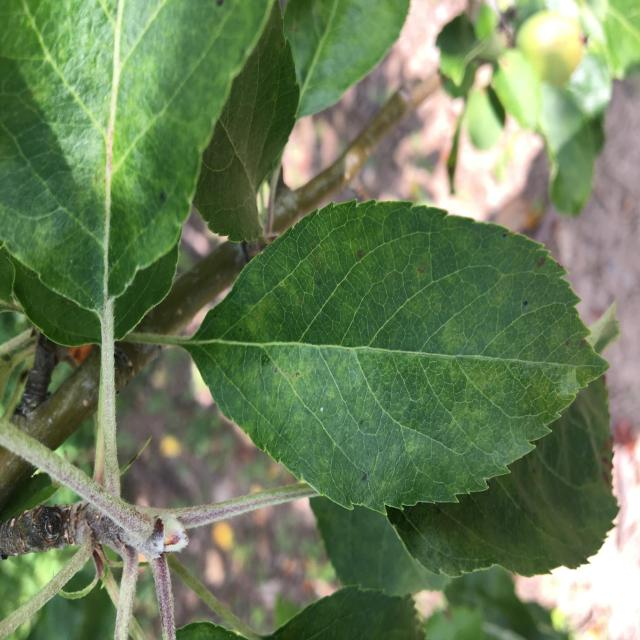scab: (220, 205, 595, 498), (0, 0, 269, 302)
